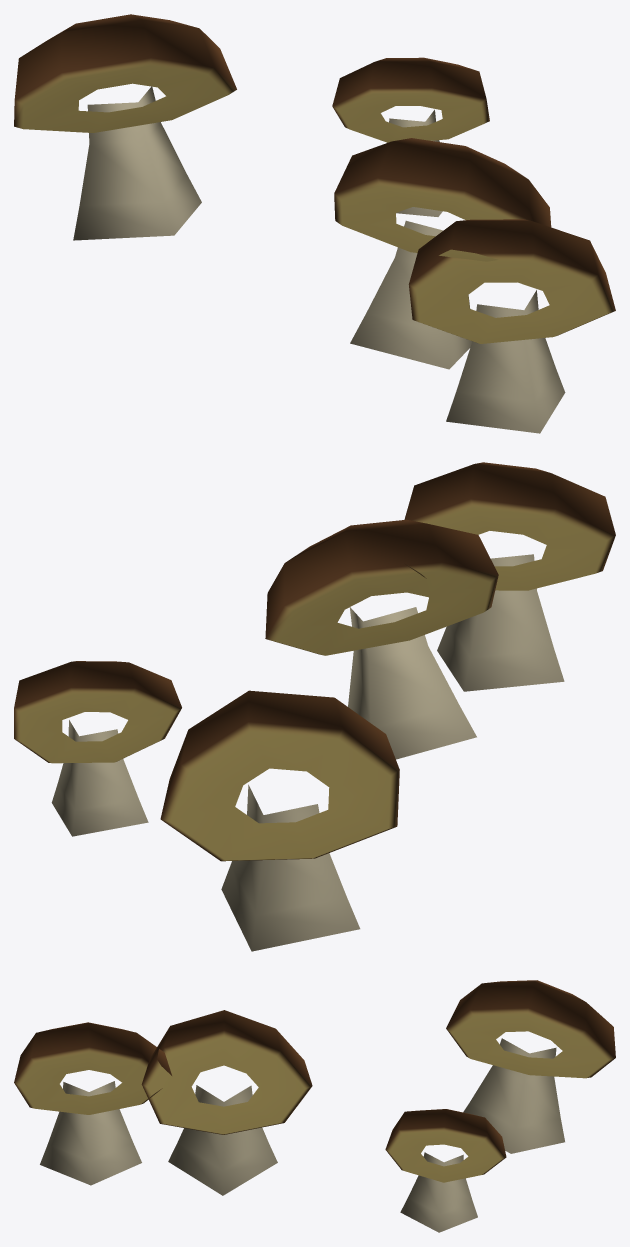
Rendered from mushroom-porcini-b.lod1.glb.
3 renders of one model, top to bottom at view 1: azimuth 30°, elevation 25°; view 2: azimuth 150°, elevation 25°; view 3: azimuth 270°, elevation 25°, orthographic. The views are drawn at different scales.
Parts seen in each view (by area): view 1: mushroom-porcini-b.lod1; view 2: mushroom-porcini-b.lod1; view 3: mushroom-porcini-b.lod1.
Part boxes in pixels (x1=…): mushroom-porcini-b.lod1: x1=14, y1=14, x2=615, y2=433; mushroom-porcini-b.lod1: x1=14, y1=462, x2=615, y2=951; mushroom-porcini-b.lod1: x1=14, y1=980, x2=615, y2=1232.
Size of the model in its own units: 0.2923 by 0.134 by 0.4931.
